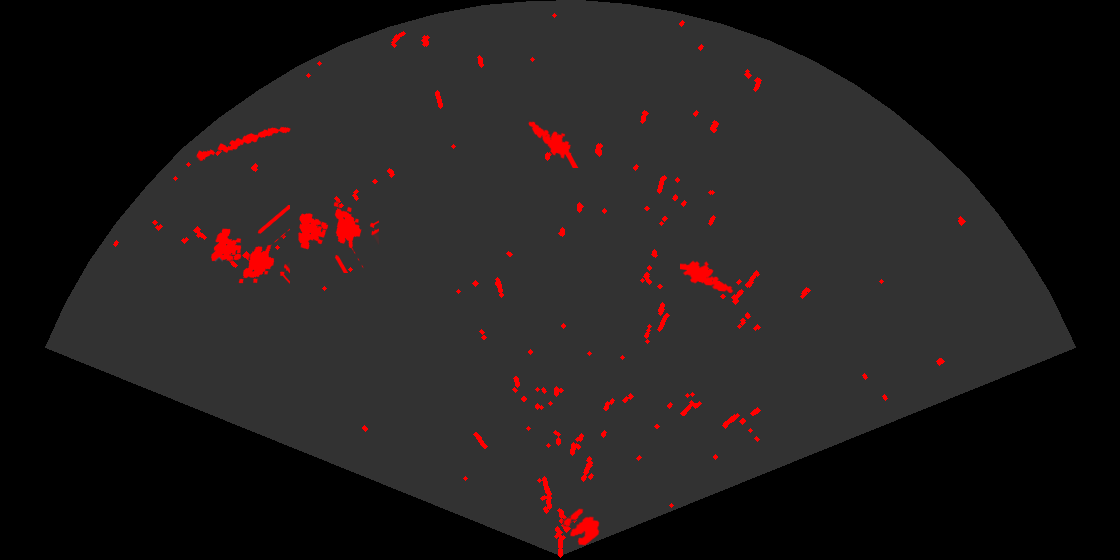ball: (562, 507, 601, 547)
cage: (209, 205, 290, 285), (296, 200, 379, 273)
chain: (194, 125, 292, 163)
frogman: (527, 119, 579, 168), (680, 259, 735, 295)
